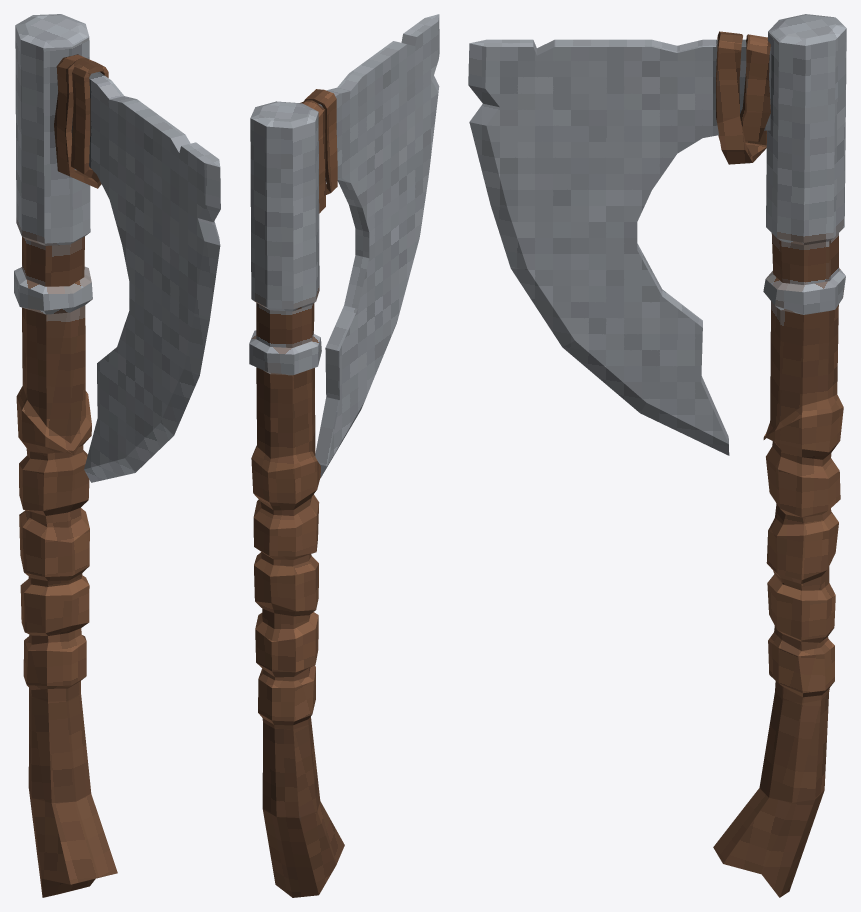
Rendered from axe_small.glb.
3 renders of one model, left to right at view 1: azimuth 30°, elevation 25°; view 2: azimuth 150°, elevation 25°; view 3: azimuth 270°, elevation 25°, orthographic. The views are drawn at different scales.
Parts seen in each view (by area): view 1: Axe_small; view 2: Axe_small; view 3: Axe_small.
Part boxes in pixels (<box>): Axe_small: <box>14,14,220,897</box>; Axe_small: <box>249,14,439,897</box>; Axe_small: <box>468,14,846,897</box>.
Bounding box in the file's own units: 0.042 × 0.5 × 0.198.
1 material, 1 textured.
